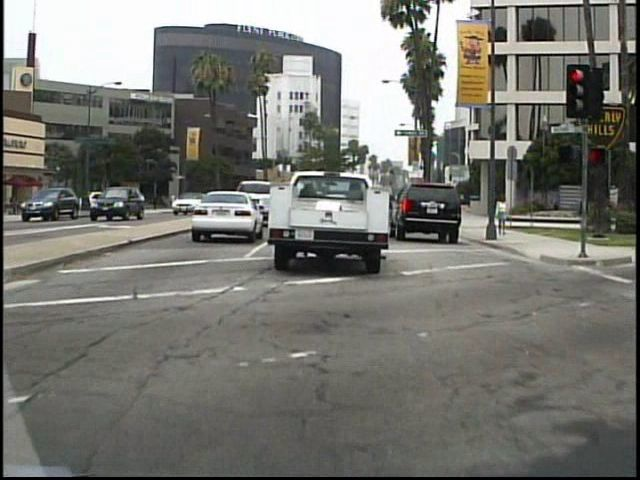person: (493, 189, 511, 238)
